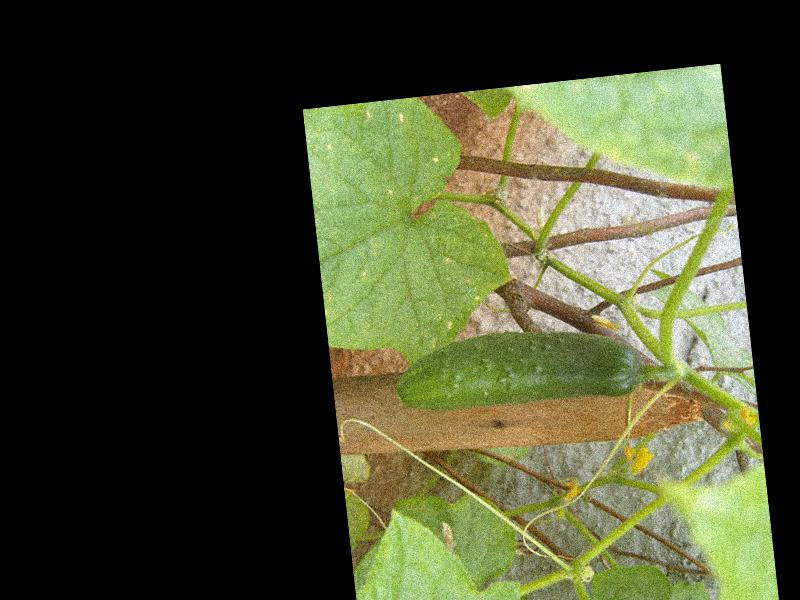Cucumber: (391, 317, 646, 421)
